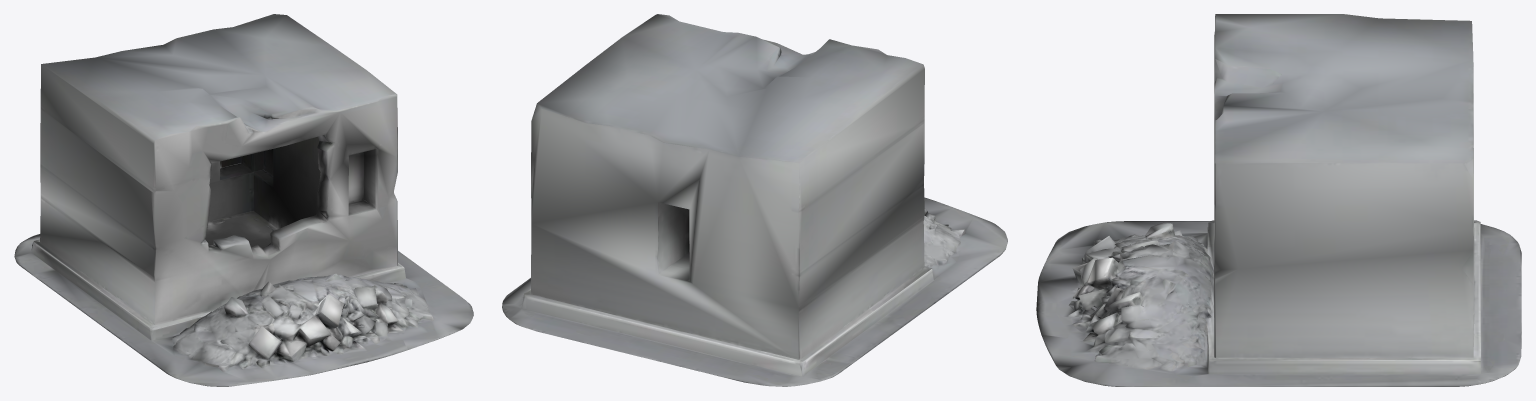
Rendered from prop_ruin.glb.
3 renders of one model, left to right at view 1: azimuth 30°, elevation 25°; view 2: azimuth 150°, elevation 25°; view 3: azimuth 270°, elevation 25°, orthographic. The views are drawn at different scales.
Visible parts, largest first — view 1: node_0; view 2: node_0; view 3: node_0.
Boxes of the visible parts, box(x1,y1,x2,y2) form: node_0: box(14, 14, 473, 386); node_0: box(502, 14, 1007, 386); node_0: box(1036, 14, 1521, 386).
Size of the model in its own units: 0.7594 by 0.4863 by 0.9394.
Materials: 1 (1 with a texture image).
